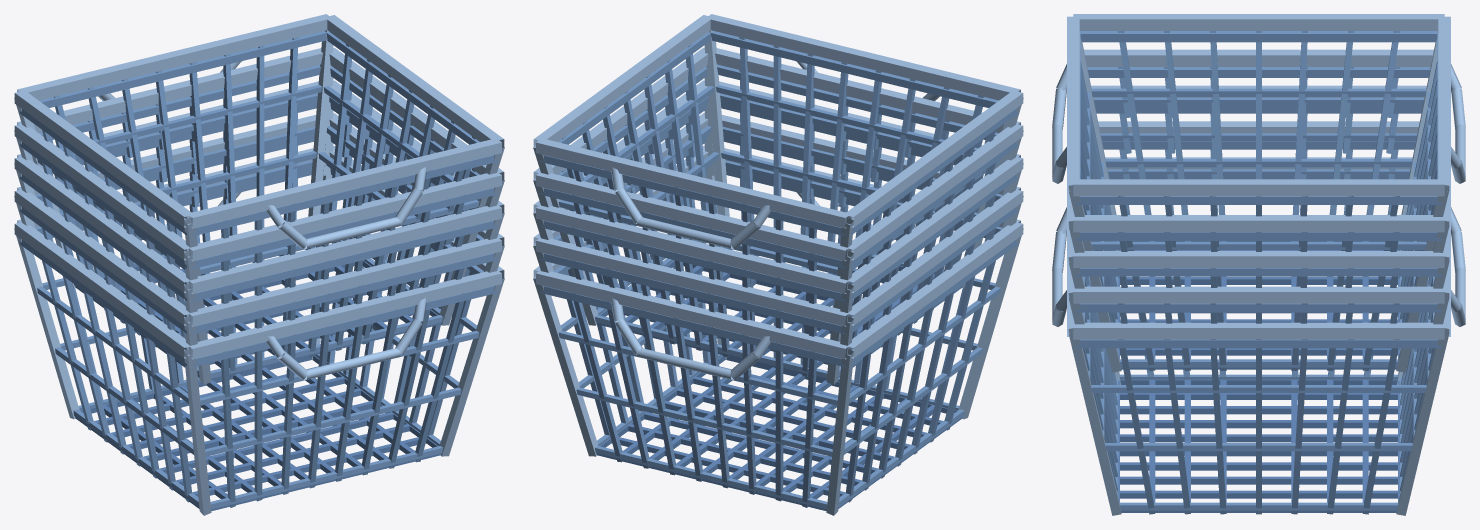
File: Prop_BasketNest.fbx
The picture shows the model from 3 angles, left to right: view 1: azimuth 30°, elevation 25°; view 2: azimuth 150°, elevation 25°; view 3: azimuth 270°, elevation 25°; orthographic projection. The views are drawn at different scales.
Visible parts, largest first — view 1: Prop_BasketNest; view 2: Prop_BasketNest; view 3: Prop_BasketNest.
Part boxes in pixels (<box>): Prop_BasketNest: <box>14,14,504,515</box>; Prop_BasketNest: <box>533,14,1023,515</box>; Prop_BasketNest: <box>1052,14,1465,515</box>.
Size of the model in its own units: 2.05 by 1.96 by 2.09.
